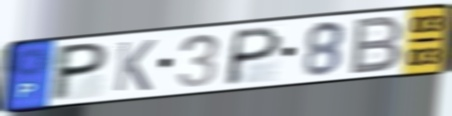3: (176, 33, 221, 88)
8: (301, 19, 347, 79)
B: (347, 13, 407, 77)
K: (111, 38, 159, 94)
P: (47, 40, 113, 104), (221, 24, 286, 87)
